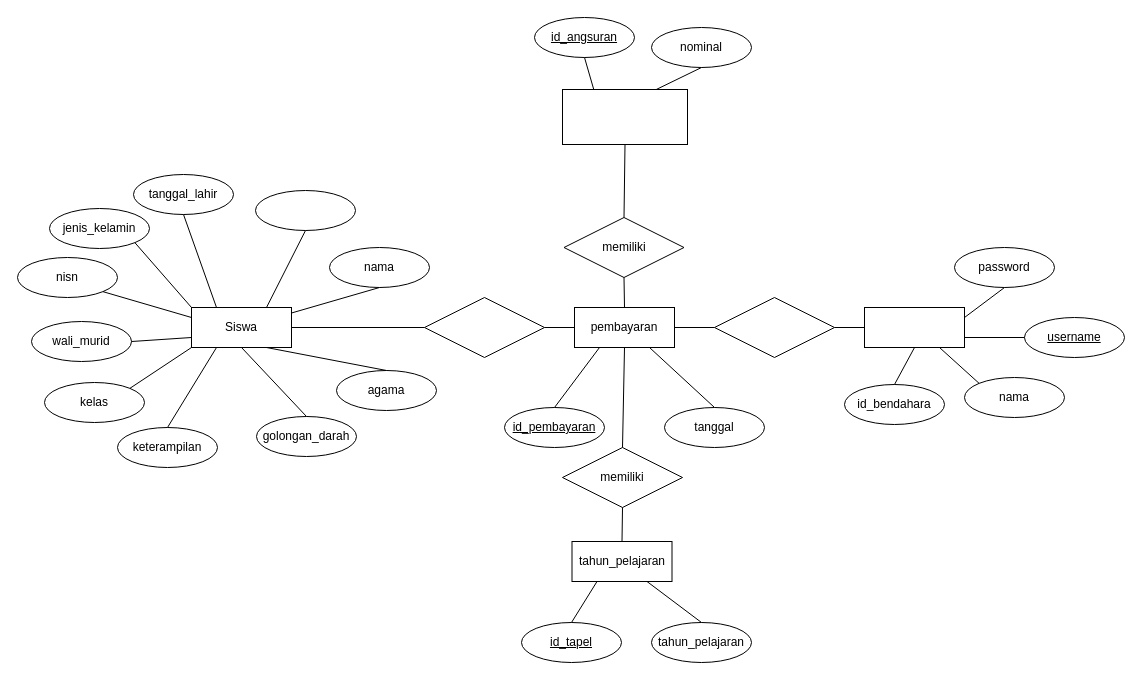
Some shapes in this 1142 by 680 pixel diagram are drawn without their labels. Here are the shapes that lost their labels. From the top down, the centre of each, then its label:
(x=625, y=116): angsuran
(x=305, y=210): alamat
(x=484, y=327): melunasi
(x=774, y=327): ditandatangani
(x=914, y=327): bendahara
